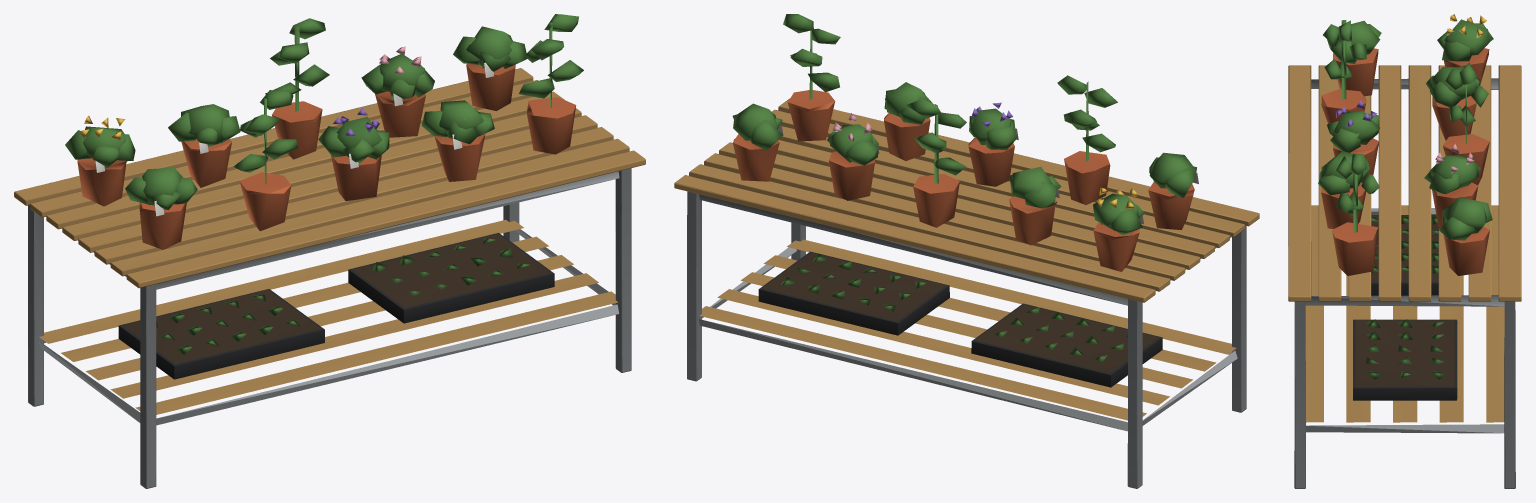
File: plantTable.far.glb
The picture shows the model from 3 angles, left to right: view 1: azimuth 30°, elevation 25°; view 2: azimuth 150°, elevation 25°; view 3: azimuth 270°, elevation 25°; orthographic projection. The views are drawn at different scales.
Parts seen in each view (by area): view 1: plantTable_far; view 2: plantTable_far; view 3: plantTable_far.
Part boxes in pixels (bbox=[...]): plantTable_far: bbox=[14, 14, 645, 488]; plantTable_far: bbox=[674, 14, 1259, 488]; plantTable_far: bbox=[1288, 14, 1521, 488].
Size of the model in its own units: 1.88 by 1.21 by 0.801.
